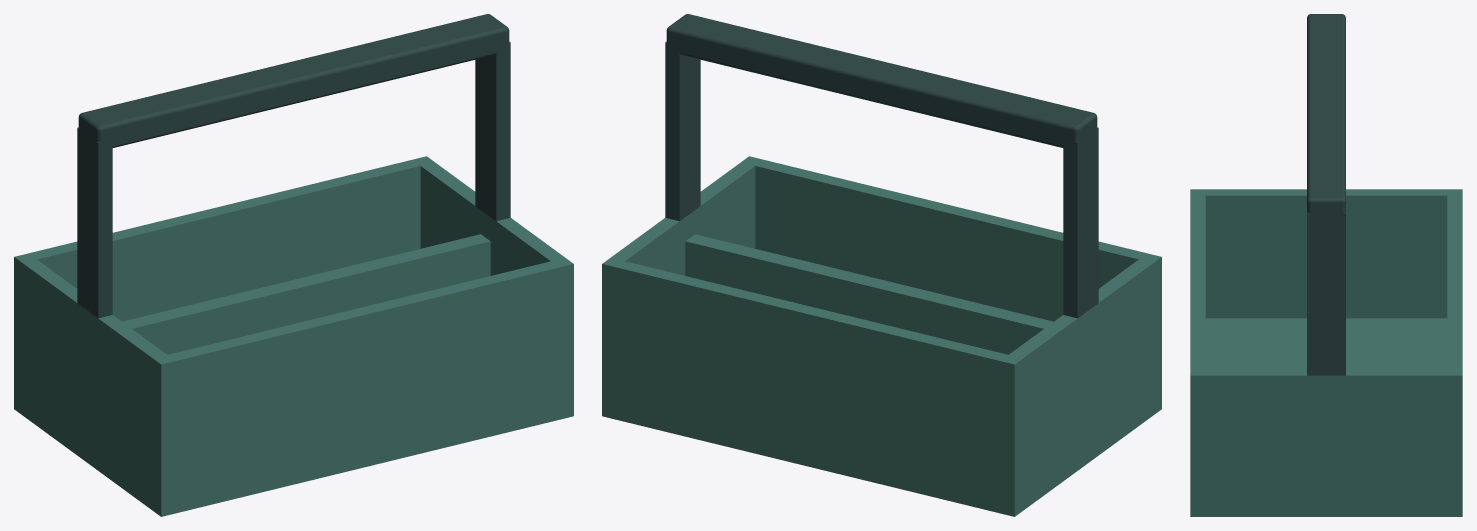
3 renders of one model, left to right at view 1: azimuth 30°, elevation 25°; view 2: azimuth 150°, elevation 25°; view 3: azimuth 270°, elevation 25°, orthographic. The views are drawn at different scales.
Parts seen in each view (by area): view 1: tray-edge-front, tray-edge-back, tray-end-left, carry-grip, bin-divider, tray-floor, tray-end-right, grip-riser-left, grip-riser-right; view 2: tray-edge-back, tray-edge-front, tray-end-left, carry-grip, bin-divider, tray-floor, tray-end-right, grip-riser-left, grip-riser-right; view 3: tray-end-right, tray-end-left, tray-floor, carry-grip, grip-riser-right, tray-edge-back, tray-edge-front.
Boxes of the visible parts, left/top/right/bottom form: tray-edge-front: left=153, top=258, right=573, bottom=496; tray-edge-back: left=14, top=156, right=434, bottom=394; tray-end-left: left=22, top=259, right=166, bottom=490; carry-grip: left=78, top=14, right=509, bottom=148; bin-divider: left=122, top=234, right=490, bottom=354; tray-floor: left=14, top=389, right=573, bottom=516; tray-end-right: left=420, top=162, right=564, bottom=275; grip-riser-left: left=77, top=127, right=112, bottom=318; grip-riser-right: left=475, top=41, right=510, bottom=221; tray-edge-back: left=602, top=258, right=1022, bottom=496; tray-edge-front: left=741, top=156, right=1161, bottom=394; tray-end-left: left=1009, top=259, right=1153, bottom=490; carry-grip: left=666, top=14, right=1097, bottom=147; bin-divider: left=685, top=234, right=1053, bottom=354; tray-floor: left=602, top=389, right=1161, bottom=516; tray-end-right: left=611, top=162, right=755, bottom=275; grip-riser-left: left=1063, top=127, right=1098, bottom=318; grip-riser-right: left=665, top=41, right=700, bottom=221; tray-end-right: left=1205, top=369, right=1447, bottom=498; tray-end-left: left=1205, top=189, right=1447, bottom=318; tray-floor: left=1190, top=318, right=1462, bottom=516; carry-grip: left=1307, top=14, right=1345, bottom=219; grip-riser-right: left=1307, top=212, right=1345, bottom=375; tray-edge-back: left=1447, top=189, right=1462, bottom=498; tray-edge-front: left=1190, top=189, right=1205, bottom=498.
Bounding box in the file's own units: 0.34 × 0.27 × 0.21.
